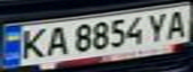4: (124, 13, 148, 46)
5: (109, 16, 130, 48)
8: (69, 20, 93, 54), (90, 18, 112, 52)
A: (42, 24, 72, 57), (163, 7, 193, 39)
K: (15, 26, 51, 61)
Y: (142, 10, 175, 43)
